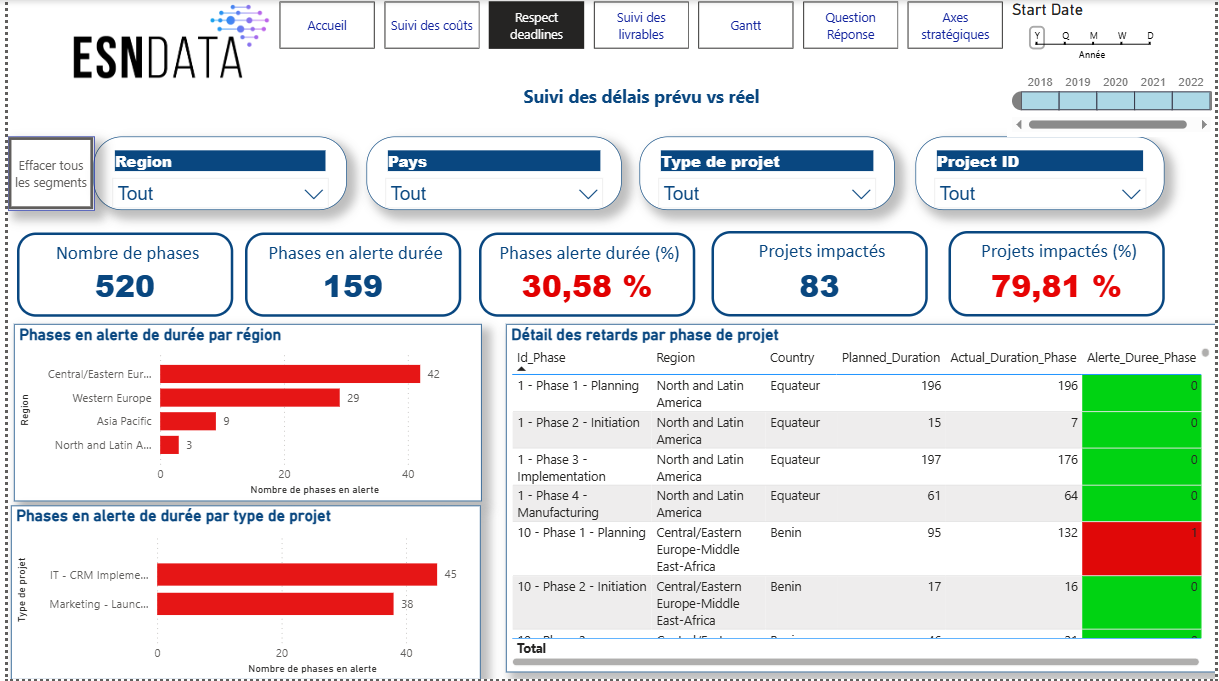

The page's visual inventory and layout, read from the dashboard file:
{"tool":"powerbi","page":{"name":"Respect deadlines","canvas":[1280,720],"ordinal":5},"visuals":[{"type":"textbox","box":[503.3,85,338.3,35],"z":0},{"type":"image","box":[1058.9,0,221.1,101.8],"z":1000},{"type":"image","box":[62,0,221.1,84.3],"z":2000},{"type":"card","title":"Nombre de phases","fields":{"Values":["Projects_plans.Nb_Phases"]},"box":[10.1,247.1,229,89.1],"z":3000},{"type":"card","title":"Phases en alerte durée","fields":{"Values":["Projects_plans.Nb_Phases_Alerte_Duree"]},"box":[251.8,247.1,229,89.1],"z":4000},{"type":"card","title":"Phases alerte durée (%)","fields":{"Values":["Projects_plans.Pct_Phases_Alerte_Duree"]},"box":[500,247.1,229,89.1],"z":5000},{"type":"slicer","fields":{"Values":["Project type.Project Type"]},"box":[670.2,145.5,270.4,77.9],"z":6000},{"type":"slicer","fields":{"Values":["Projects_plans.Project ID"]},"box":[962.8,145.5,264,77.9],"z":7000},{"type":"slicer","fields":{"Values":["Projects_Locations.Country"]},"box":[380.7,145.5,270.4,77.9],"z":8000},{"type":"slicer","fields":{"Values":["Country_Profiles.Region"]},"box":[91.2,145.5,268.8,77.9],"z":9000},{"type":"card","title":"Projets impactés","fields":{"Values":["Projects_plans.Nb_Projets_Alerte_Duree"]},"box":[746.5,245.5,229,90.7],"z":10000},{"type":"barChart","title":"Phases en alerte de durée par région","fields":{"Category":["Country_Profiles.Region"],"Y":["Projects_plans.Nb_Projets_Alerte_Duree"]},"box":[6.4,343.6,496.3,187.7],"z":11000},{"type":"barChart","title":"Phases en alerte de durée par type de projet","fields":{"Y":["Projects_plans.Nb_Projets_Alerte_Duree"],"Category":["Project type.Project Type"]},"box":[3.2,536,497.9,184.5],"z":12000},{"type":"tableEx","title":"Détail des retards par phase de projet","fields":{"Values":["Projects_plans.Id_Phase","Country_Profiles.Region","Country_Profiles.Country","Projects_plans.Planned_Duration","Projects_plans.Actual_Duration_Phase","Projects_plans.Alerte_Duree_Phase"]},"box":[528.1,343.6,752.4,369],"z":13000},{"type":"card","title":"Projets impactés (%)","fields":{"Values":["Projects_plans.Pct_Projets_Alerte_Duree"]},"box":[997.8,245.5,229,90.7],"z":14000},{"type":"actionButton","box":[0,145,91.7,78.3],"z":15000},{"type":"pageNavigator","box":[288.3,1.7,771.7,50],"z":16000},{"type":"Timeline1447991079100","fields":{"Time":["Projects_plans.Start Date"]},"box":[1059.3,0,221.1,144.7],"z":17000}]}

Visuals, with their boxes on the page's 1280x720 design canvas (x1, y1, x2, y2). These are canvas units, not pixel positions in the 1219x681 screenshot, which may show the page scaled, cropped or inside an application window:
textbox: {"left": 503, "top": 85, "right": 842, "bottom": 120}
image: {"left": 1059, "top": 0, "right": 1280, "bottom": 102}
image: {"left": 62, "top": 0, "right": 283, "bottom": 84}
"Nombre de phases" card: {"left": 10, "top": 247, "right": 239, "bottom": 336}
"Phases en alerte durée" card: {"left": 252, "top": 247, "right": 481, "bottom": 336}
"Phases alerte durée (%)" card: {"left": 500, "top": 247, "right": 729, "bottom": 336}
slicer - Project type.Project Type: {"left": 670, "top": 146, "right": 941, "bottom": 223}
slicer - Projects_plans.Project ID: {"left": 963, "top": 146, "right": 1227, "bottom": 223}
slicer - Projects_Locations.Country: {"left": 381, "top": 146, "right": 651, "bottom": 223}
slicer - Country_Profiles.Region: {"left": 91, "top": 146, "right": 360, "bottom": 223}
"Projets impactés" card: {"left": 746, "top": 246, "right": 976, "bottom": 336}
"Phases en alerte de durée par région" barChart: {"left": 6, "top": 344, "right": 503, "bottom": 531}
"Phases en alerte de durée par type de projet" barChart: {"left": 3, "top": 536, "right": 501, "bottom": 720}
"Détail des retards par phase de projet" tableEx: {"left": 528, "top": 344, "right": 1280, "bottom": 713}
"Projets impactés (%)" card: {"left": 998, "top": 246, "right": 1227, "bottom": 336}
actionButton: {"left": 0, "top": 145, "right": 92, "bottom": 223}
pageNavigator: {"left": 288, "top": 2, "right": 1060, "bottom": 52}
Timeline1447991079100 - Projects_plans.Start Date: {"left": 1059, "top": 0, "right": 1280, "bottom": 145}
